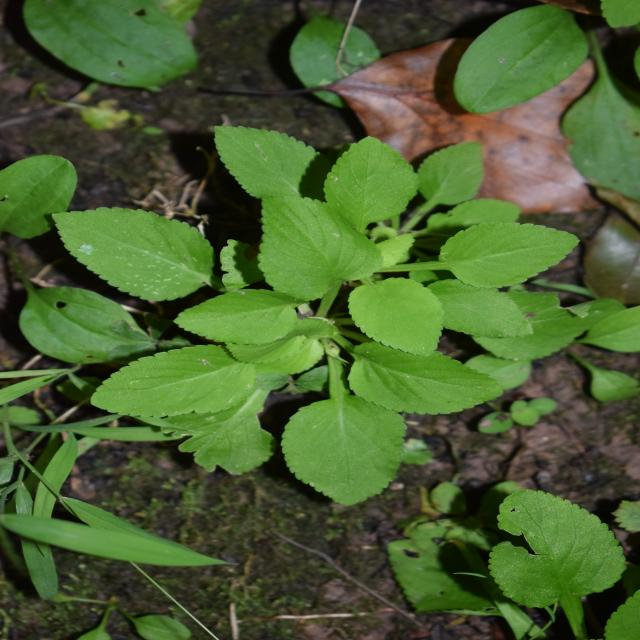Viola: (135, 82, 471, 571)
